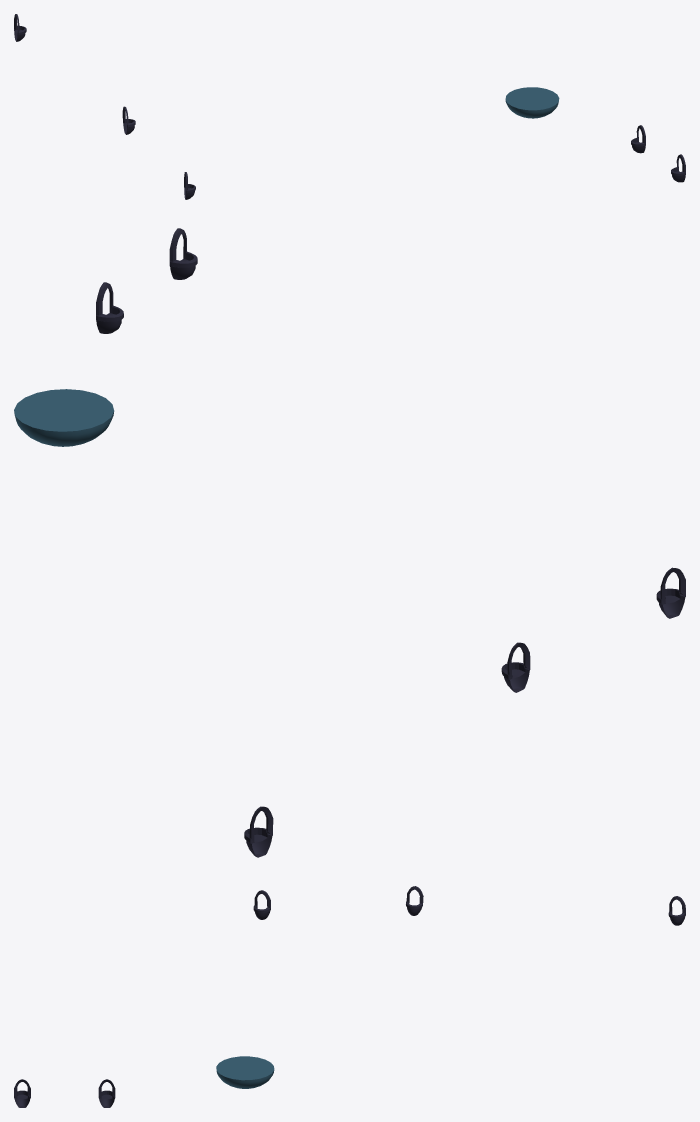
The model's file is GameLights.fbx.
3 renders of one model, top to bottom at view 1: azimuth 30°, elevation 25°; view 2: azimuth 150°, elevation 25°; view 3: azimuth 270°, elevation 25°, orthographic. The views are drawn at different scales.
Visible parts, largest first — view 1: LightBottom (9); view 2: LightBottom (9), MainMiniLights (1), MainMiniLights (2), MainMiniLights (3); view 3: LightBottom (9), MainMiniLights (4).
Part boxes in pixels (<box>): LightBottom (9): <box>505,87,559,118</box>; LightBottom (9): <box>14,389,114,446</box>; MainMiniLights (1): <box>656,567,685,618</box>; MainMiniLights (2): <box>244,806,273,857</box>; MainMiniLights (3): <box>501,642,530,692</box>; LightBottom (9): <box>216,1056,274,1088</box>; MainMiniLights (4): <box>98,1079,115,1107</box>.
Bounding box in the file's own units: 721 × 64.49 × 1029.
